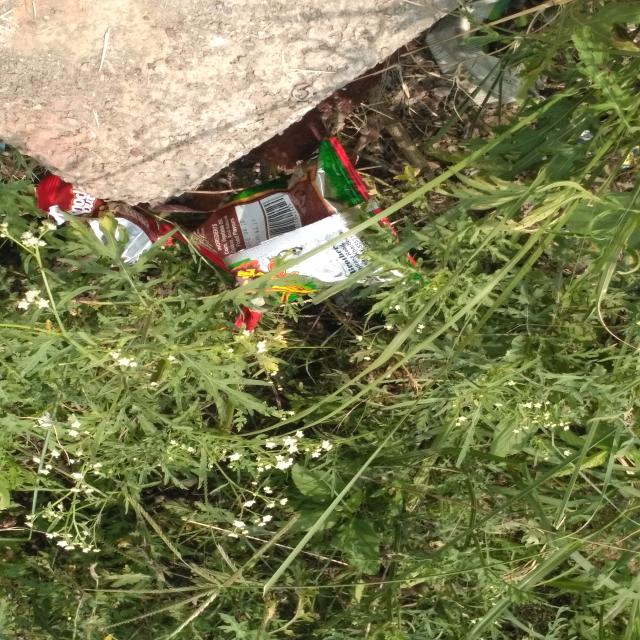Crisp packet: (159, 137, 427, 333)
Other plastic: (424, 0, 543, 106), (36, 173, 172, 264)
